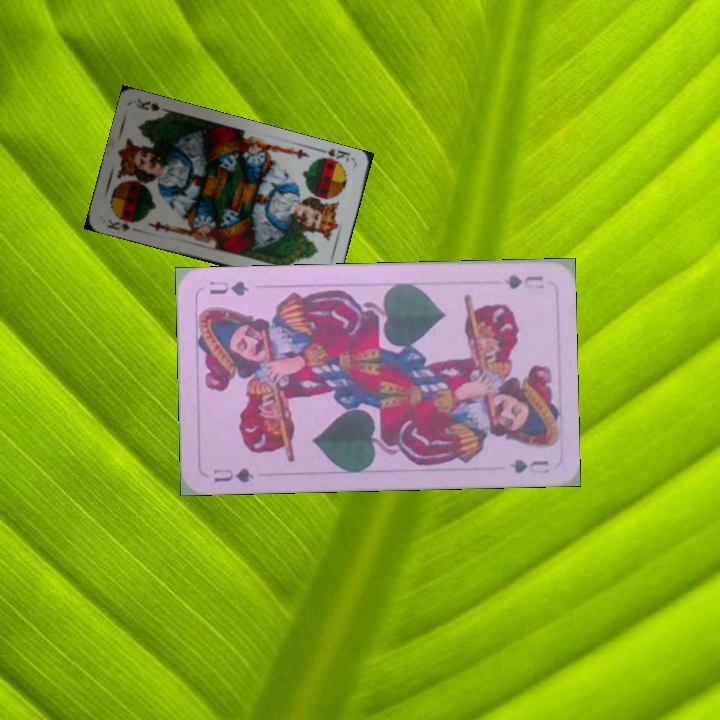GU: (210, 464, 256, 486), (500, 270, 546, 292)
SK: (313, 145, 352, 169), (103, 215, 132, 234)
